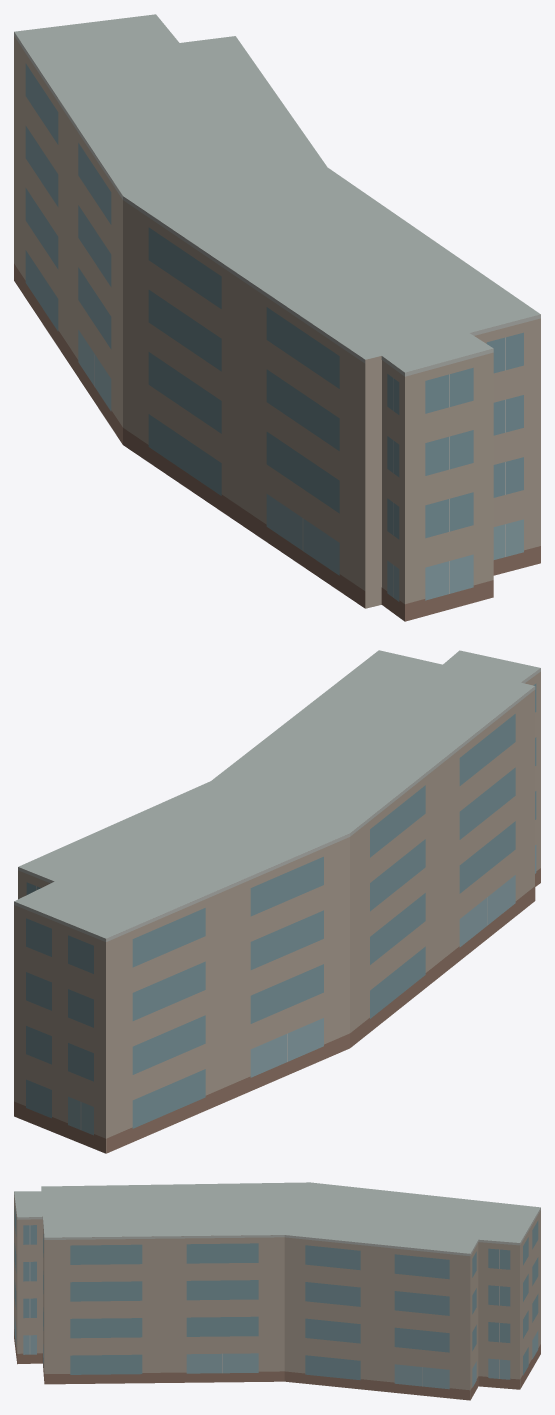
File: survey-upis-32957763.glb
3 renders of one model, top to bottom at view 1: azimuth 30°, elevation 25°; view 2: azimuth 150°, elevation 25°; view 3: azimuth 270°, elevation 25°, orthographic. The views are drawn at different scales.
Visible parts, largest first — view 1: survey-upis-32957763.tmp; view 2: survey-upis-32957763.tmp; view 3: survey-upis-32957763.tmp.
Part boxes in pixels (x1=…): survey-upis-32957763.tmp: x1=14, y1=14, x2=540, y2=621; survey-upis-32957763.tmp: x1=14, y1=650, x2=540, y2=1153; survey-upis-32957763.tmp: x1=14, y1=1182, x2=540, y2=1400.
Bounding box in the file's own units: 15.68 × 15 × 48.84.
